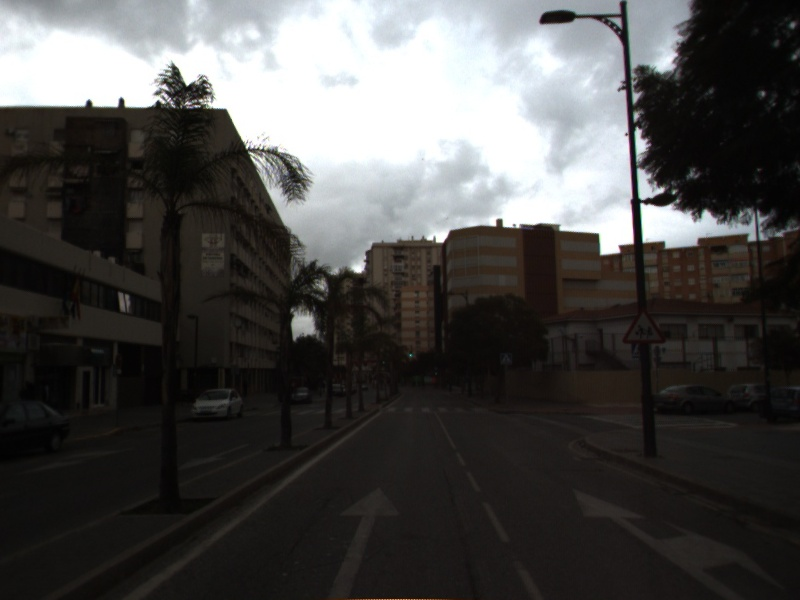STRAIGHT: (323, 485, 403, 600)
STRAIGHT_RIGHT: (570, 486, 788, 600)
